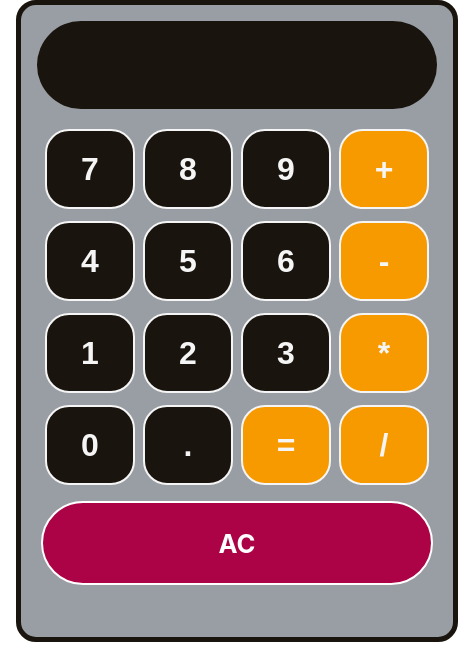
Test: <calculator /> › update state if eval(input).length > 3 & eval(input).includes(.)
This screenshot has width=475, height=659.
Click the button "2" at (188, 353), box [143,313,233,393]
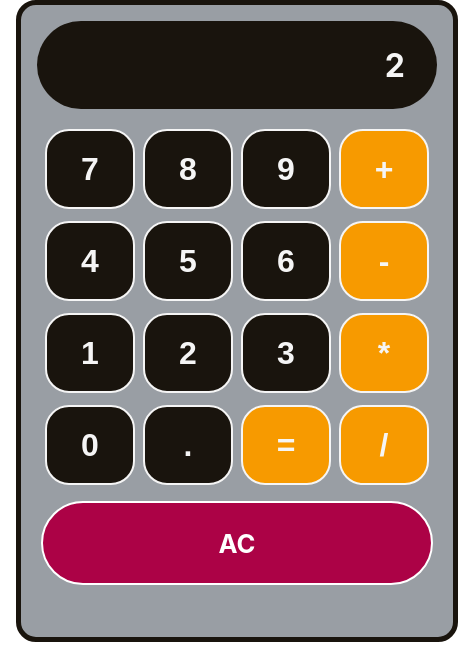
Click the button "+" at (384, 169), box [339,129,429,209]
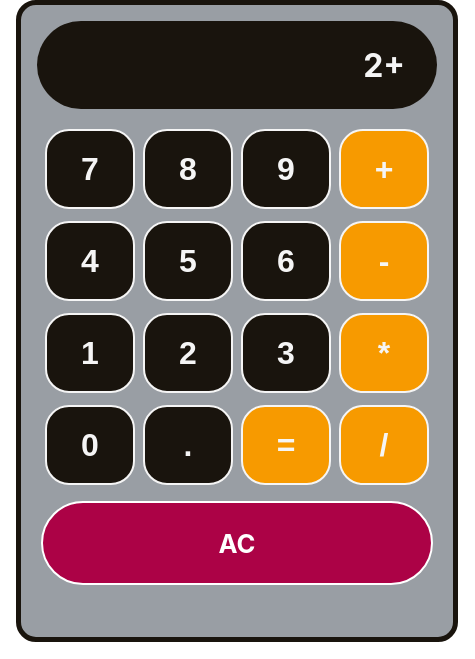
Click the button "2" at (188, 353), box [143,313,233,393]
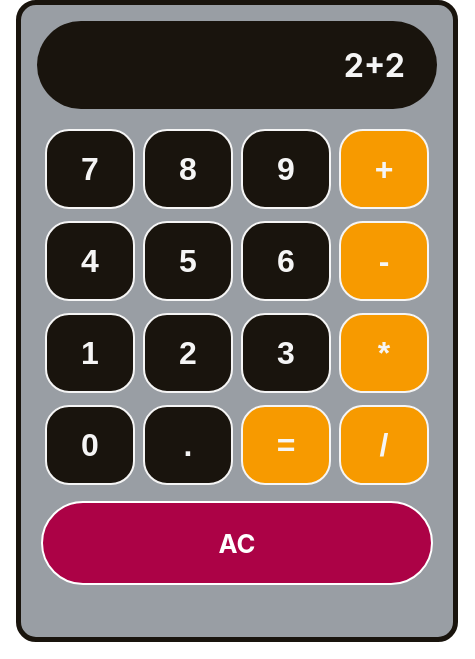
Click the button "=" at (286, 445), box [241,405,331,485]
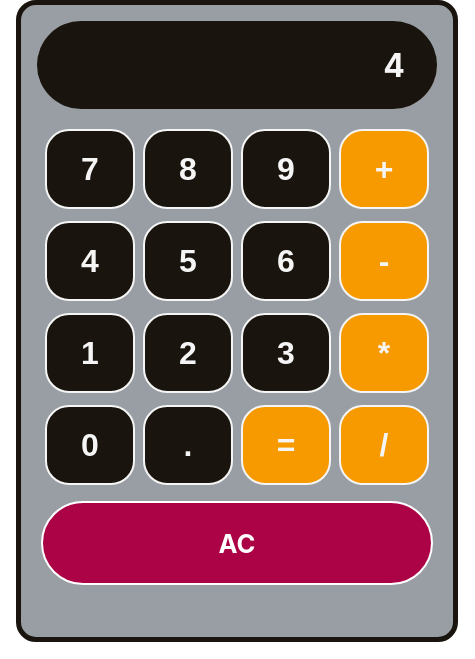
Now the text with test id "screen" reads "4", box [383,46,405,84]
